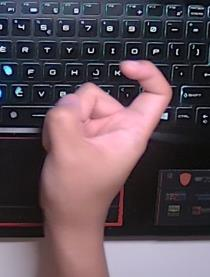anticlockwise: (34, 59, 174, 220)
